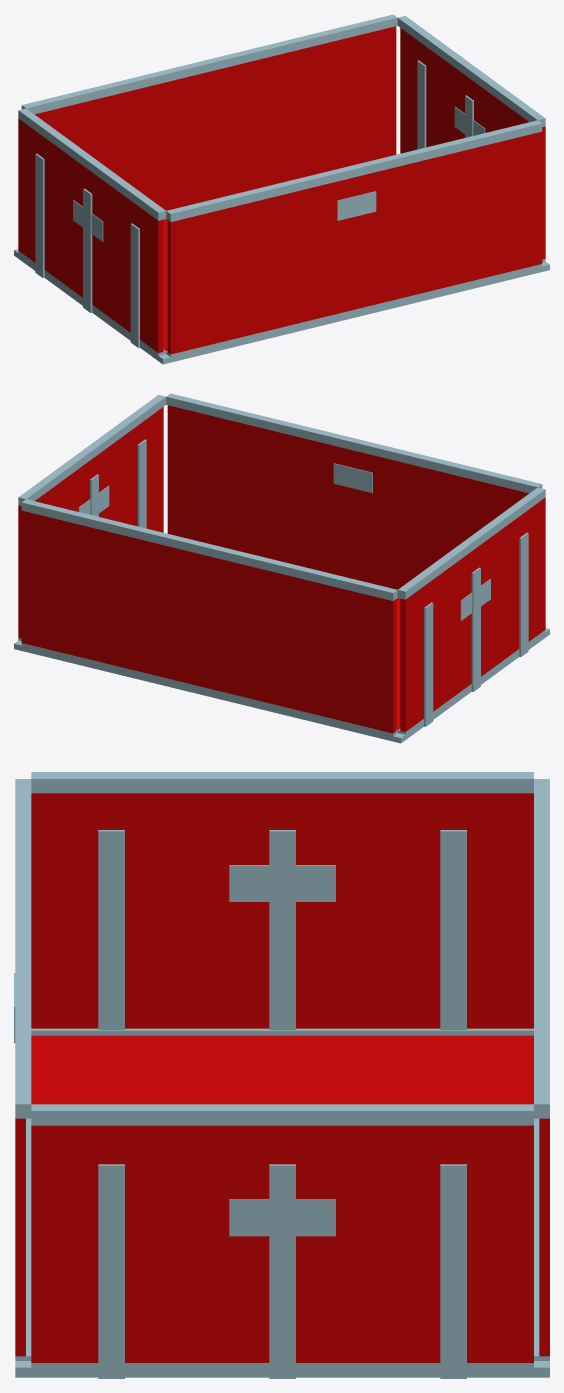
The model's file is container-tote-600x400-low.glb.
3 views of the same model, one above another, from view 1: azimuth 30°, elevation 25°; view 2: azimuth 150°, elevation 25°; view 3: azimuth 270°, elevation 25° (orthographic). The views are drawn at different scales.
Visible parts, largest first — view 1: world; view 2: world; view 3: world.
Part boxes in pixels (x1,y1,x2,y2): world: (14,14,549,364); world: (14,393,549,743); world: (14,772,549,1378).
Bounding box in the file's own units: 605 × 220 × 401.
